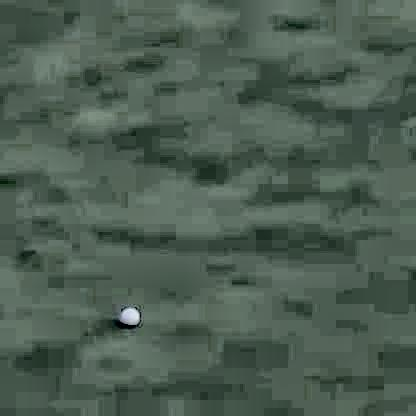golfball: (117, 306, 136, 324)
